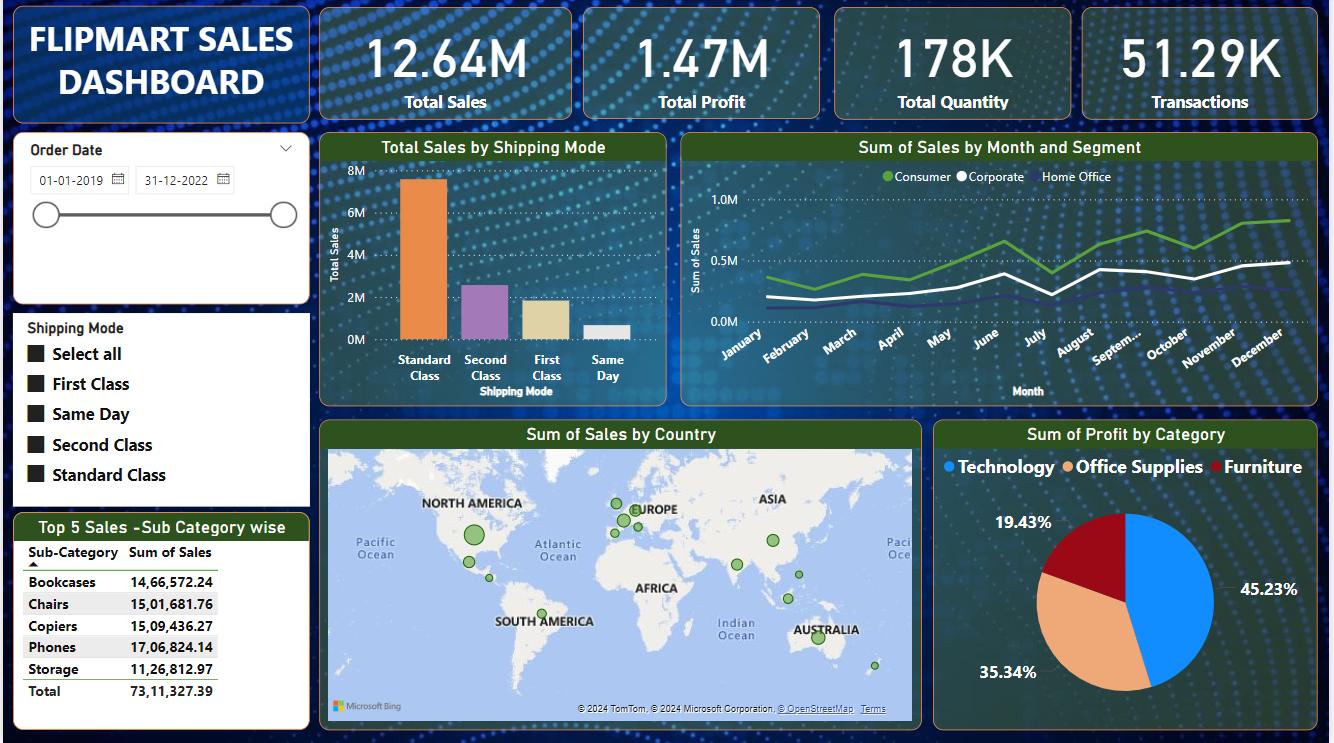

Layout of this report page (visuals, bound fields, positions):
{"tool":"powerbi","page":{"name":"Page 1","canvas":[1280,720],"ordinal":0},"visuals":[{"type":"card","fields":{"Values":["Sum(Sales.Sales)"]},"box":[305,10,243.8,108.8],"z":0},{"type":"card","fields":{"Values":["Sum(Sales.Profit)"]},"box":[560,10,229.2,108.3],"z":1000},{"type":"card","fields":{"Values":["Sum(Sales.Quantity)"]},"box":[802,9.6,229.1,108.5],"z":2000},{"type":"card","fields":{"Values":["CountNonNull(Sales.Order ID)"]},"box":[1040.8,9.6,227.9,108.5],"z":3000},{"type":"clusteredColumnChart","title":"Total Sales by Shipping Mode","fields":{"Y":["Sum(Sales.Sales)"],"Category":["Sales.Shipping Mode"]},"box":[305,130,335,265],"z":4000},{"type":"pieChart","fields":{"Category":["Sales.Category"],"Y":["Sum(Sales.Profit)"]},"box":[897.3,407.6,371.5,300.3],"z":5000},{"type":"lineChart","fields":{"Y":["Sum(Sales.Sales)"],"Category":["Sales.Order Date.Variation.Date Hierarchy.Month"],"Series":["Sales.Segment"]},"box":[653.8,130,615,265],"z":6000},{"type":"map","fields":{"Size":["Sum(Sales.Sales)"],"Category":["Sales.Country"]},"box":[305,407.5,581.2,300],"z":7000},{"type":"tableEx","title":"Top 5 Sales -Sub Category wise","fields":{"Values":["Sales.Sub-Category","Sum(Sales.Sales)"]},"box":[10,497.5,286.2,210],"z":8000},{"type":"slicer","fields":{"Values":["Sales.Shipping Mode"]},"box":[10,305,286.2,186.2],"z":9000},{"type":"slicer","fields":{"Values":["Sales.Order Date"]},"box":[10,130,286.2,166.2],"z":10000},{"type":"textbox","box":[10,8.8,286.2,113.8],"z":11000}]}

Visuals, with their boxes in screenshot pixels (x1, y1, x2, y2), scaled from the page's 1280x720 canvas onto the 1334x743 screenshot:
card - Sum(Sales.Sales): left=318, top=10, right=572, bottom=123
card - Sum(Sales.Profit): left=584, top=10, right=822, bottom=122
card - Sum(Sales.Quantity): left=836, top=10, right=1075, bottom=122
card - CountNonNull(Sales.Order ID): left=1085, top=10, right=1322, bottom=122
"Total Sales by Shipping Mode" clusteredColumnChart: left=318, top=134, right=667, bottom=408
pieChart - Sales.Category x Sum(Sales.Profit): left=935, top=421, right=1322, bottom=731
lineChart - Sum(Sales.Sales) x Sales.Order Date.Variation.Date Hierarchy.Month: left=681, top=134, right=1322, bottom=408
map - Sum(Sales.Sales) x Sales.Country: left=318, top=421, right=924, bottom=730
"Top 5 Sales -Sub Category wise" tableEx: left=10, top=513, right=309, bottom=730
slicer - Sales.Shipping Mode: left=10, top=315, right=309, bottom=507
slicer - Sales.Order Date: left=10, top=134, right=309, bottom=306
textbox: left=10, top=9, right=309, bottom=127
